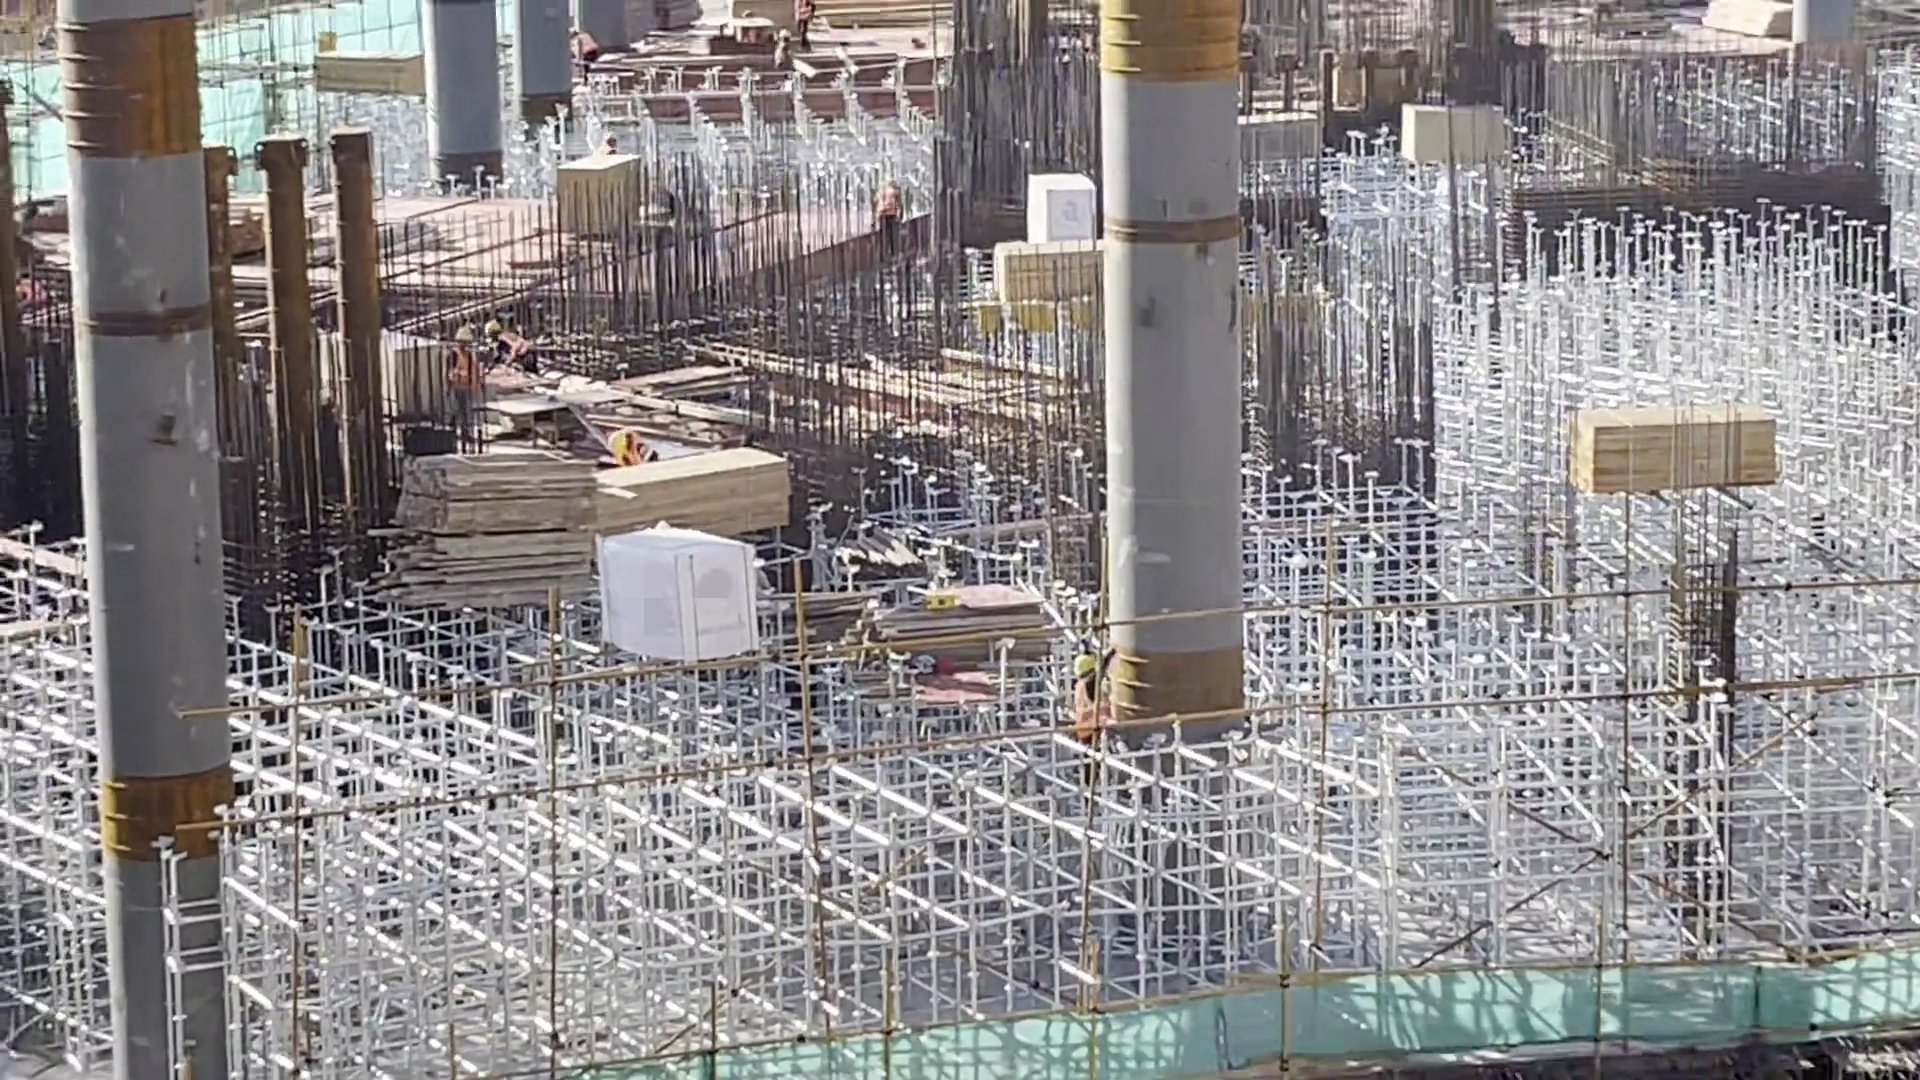board: (869, 579, 1055, 674)
helmet: (607, 433, 628, 455), (1071, 654, 1092, 676), (456, 327, 473, 341), (485, 322, 500, 331)
person: (443, 323, 481, 417), (1071, 650, 1120, 723), (485, 319, 539, 376), (873, 174, 907, 256), (602, 428, 659, 469), (567, 23, 596, 65), (797, 1, 820, 50), (774, 28, 793, 73), (594, 132, 621, 157)
vest: (450, 348, 477, 391), (1071, 679, 1093, 726), (498, 332, 532, 359)
wood: (374, 443, 600, 606), (1564, 402, 1785, 493), (601, 448, 791, 534), (309, 42, 423, 92), (1697, 1, 1792, 40)
